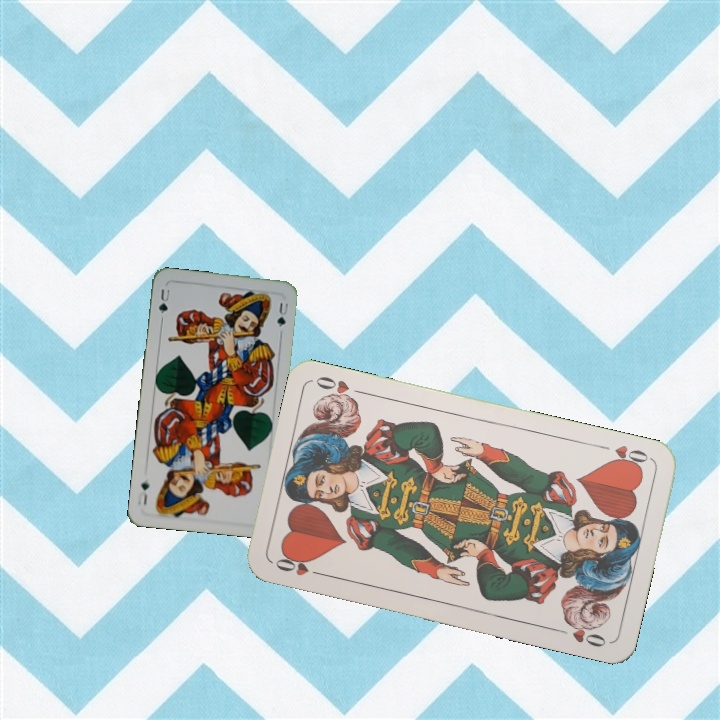GU: (155, 285, 172, 323)
HO: (594, 440, 653, 471), (271, 551, 328, 579)
